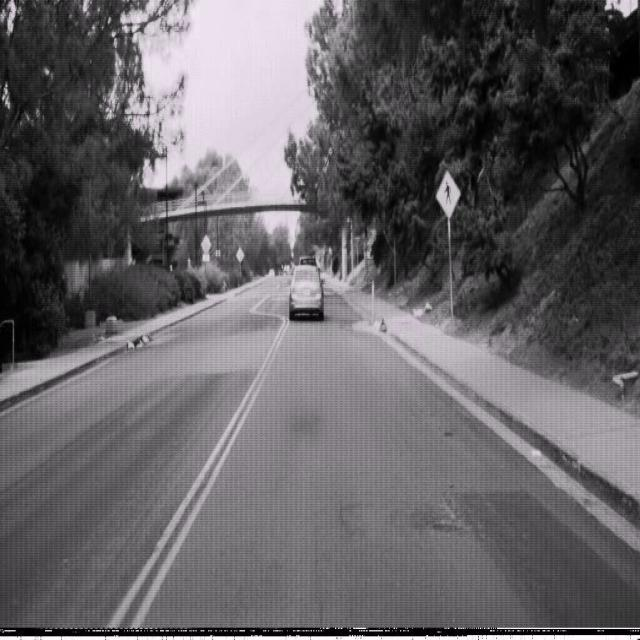pedestrianCrossing: (434, 168, 462, 218)
